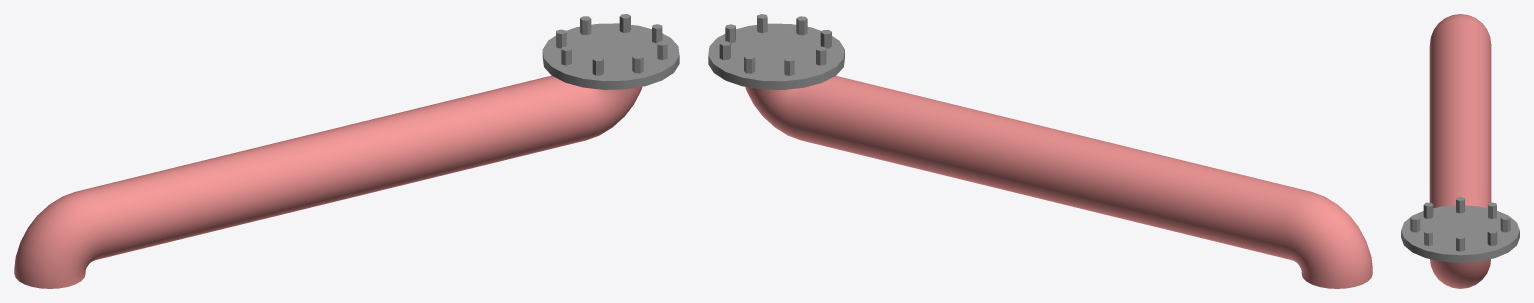
File: SM_Sliv_All_Truba_01.gltf
3 views of the same model, side by side, from view 1: azimuth 30°, elevation 25°; view 2: azimuth 150°, elevation 25°; view 3: azimuth 270°, elevation 25° (orthographic). The views are drawn at different scales.
Visible parts, largest first — view 1: SM_Sliv_All_Truba_01; view 2: SM_Sliv_All_Truba_01; view 3: SM_Sliv_All_Truba_01.
Part boxes in pixels (bbox=[...]): SM_Sliv_All_Truba_01: bbox=[14, 14, 679, 288]; SM_Sliv_All_Truba_01: bbox=[708, 14, 1372, 288]; SM_Sliv_All_Truba_01: bbox=[1401, 14, 1519, 288].
Bounding box in the file's own units: 1.37 × 0.2 × 0.251.
